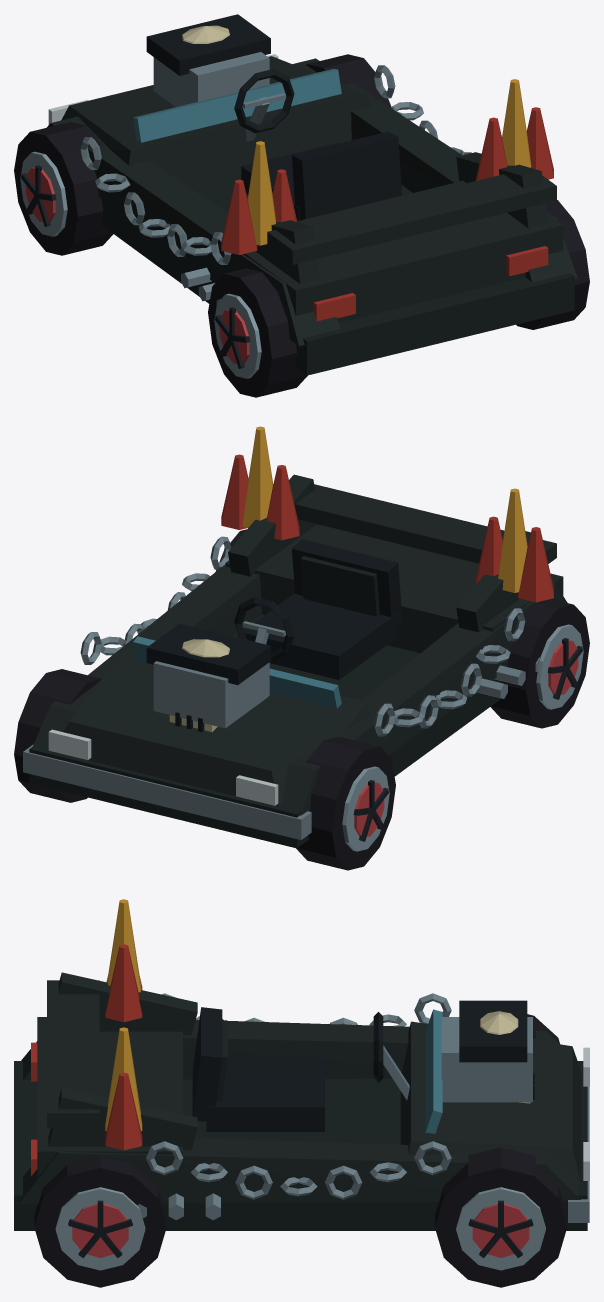
Rendered from kart.glb.
3 views of the same model, one above another, from view 1: azimuth 30°, elevation 25°; view 2: azimuth 150°, elevation 25°; view 3: azimuth 270°, elevation 25° (orthographic). The views are drawn at different scales.
Visible parts, largest first — view 1: identity-interceptor-interceptor-fastback-and-supercharger, identity-interceptor-driver-cockpit, wheel-front-left, wheel-rear-left, identity-interceptor-motif-fire, identity-interceptor-motif-chains, wheel-rear-right, wheel-front-right, identity-interceptor-motif-skull; view 2: identity-interceptor-interceptor-fastback-and-supercharger, identity-interceptor-driver-cockpit, identity-interceptor-motif-fire, wheel-front-left, wheel-rear-left, identity-interceptor-motif-chains, wheel-front-right, identity-interceptor-motif-skull; view 3: identity-interceptor-interceptor-fastback-and-supercharger, wheel-front-right, wheel-rear-right, identity-interceptor-driver-cockpit, identity-interceptor-motif-fire, identity-interceptor-motif-chains, identity-interceptor-motif-skull.
Part boxes in pixels (<box>): identity-interceptor-interceptor-fastback-and-supercharger: <box>47,14,577,375</box>; identity-interceptor-driver-cockpit: <box>234,69,401,221</box>; wheel-front-left: <box>14,122,113,255</box>; wheel-rear-left: <box>208,268,307,397</box>; identity-interceptor-motif-fire: <box>221,79,553,254</box>; identity-interceptor-motif-chains: <box>80,65,471,264</box>; wheel-rear-right: <box>516,200,589,329</box>; wheel-front-right: <box>306,54,391,107</box>; identity-interceptor-motif-skull: <box>182,25,229,43</box>; identity-interceptor-interceptor-fastback-and-supercharger: <box>23,474,567,848</box>; identity-interceptor-driver-cockpit: <box>234,539,402,679</box>; identity-interceptor-motif-fire: <box>221,426,553,602</box>; wheel-front-left: <box>296,737,395,870</box>; wheel-rear-left: <box>490,599,589,728</box>; identity-interceptor-motif-chains: <box>80,536,525,736</box>; wheel-front-right: <box>14,669,101,802</box>; identity-interceptor-motif-skull: <box>169,639,229,731</box>; identity-interceptor-interceptor-fastback-and-supercharger: <box>14,972,589,1230</box>; wheel-front-right: <box>435,1147,566,1287</box>; wheel-rear-right: <box>34,1156,166,1287</box>; identity-interceptor-driver-cockpit: <box>192,1007,409,1131</box>; identity-interceptor-motif-fire: <box>105,899,142,1150</box>; identity-interceptor-motif-chains: <box>146,993,451,1199</box>; identity-interceptor-motif-skull: <box>480,1011,534,1103</box>.
Bounding box in the file's own units: 2.07 × 1.38 × 2.96.
